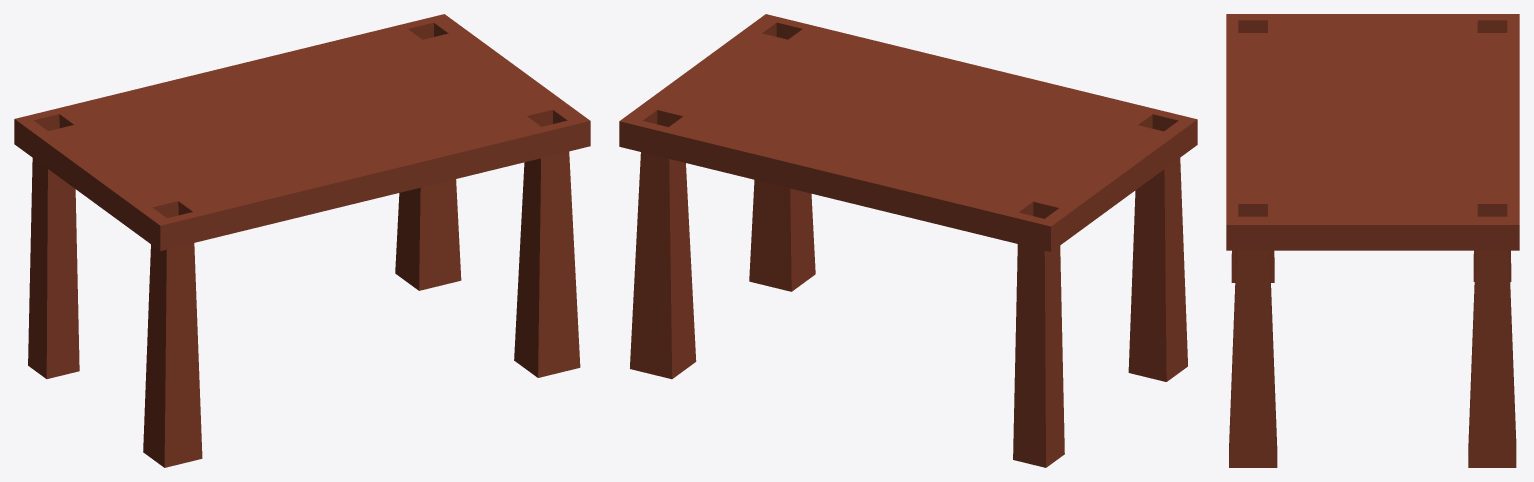
Rendered from Mesa.fbx.
The picture shows the model from 3 angles, left to right: view 1: azimuth 30°, elevation 25°; view 2: azimuth 150°, elevation 25°; view 3: azimuth 270°, elevation 25°; orthographic projection.
Visible parts, largest first — view 1: Cube; view 2: Cube; view 3: Cube.
Part boxes in pixels (<box>): Cube: <box>14,14,590,467</box>; Cube: <box>619,14,1197,467</box>; Cube: <box>1226,14,1519,467</box>.
Bounding box in the file's own units: 3540 × 1933 × 2081.
